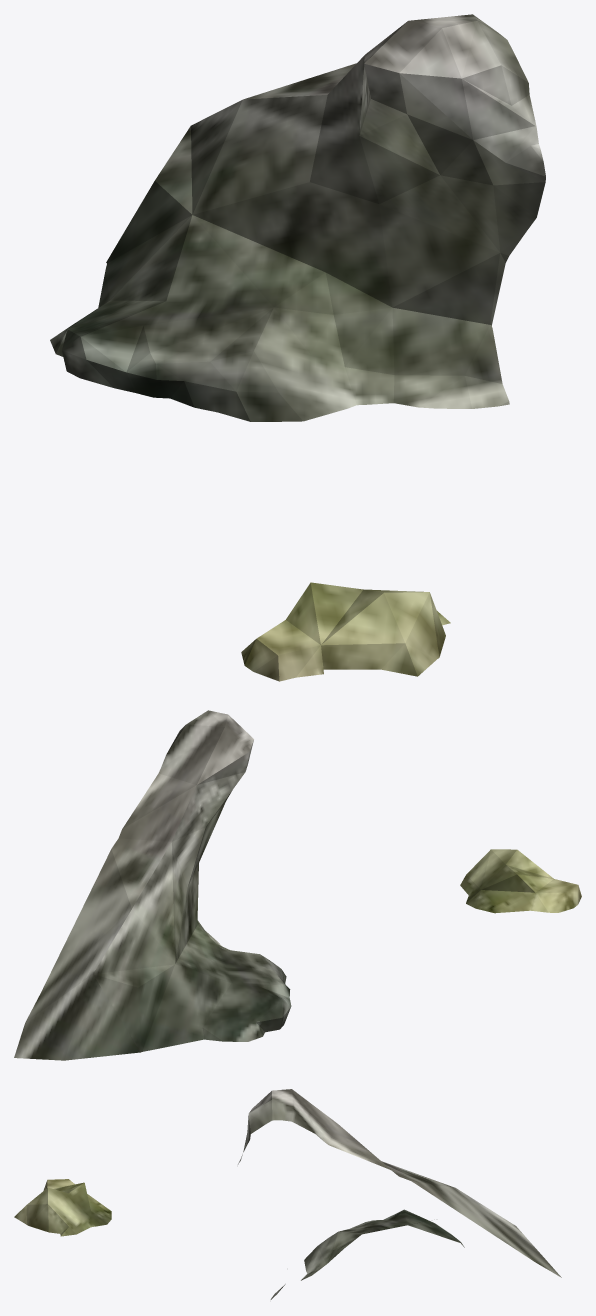
3 views of the same model, one above another, from view 1: azimuth 30°, elevation 25°; view 2: azimuth 150°, elevation 25°; view 3: azimuth 270°, elevation 25° (orthographic). The views are drawn at different scales.
Size of the model in its own units: 2.05 by 1.64 by 4.31.
1 material, 1 textured.
